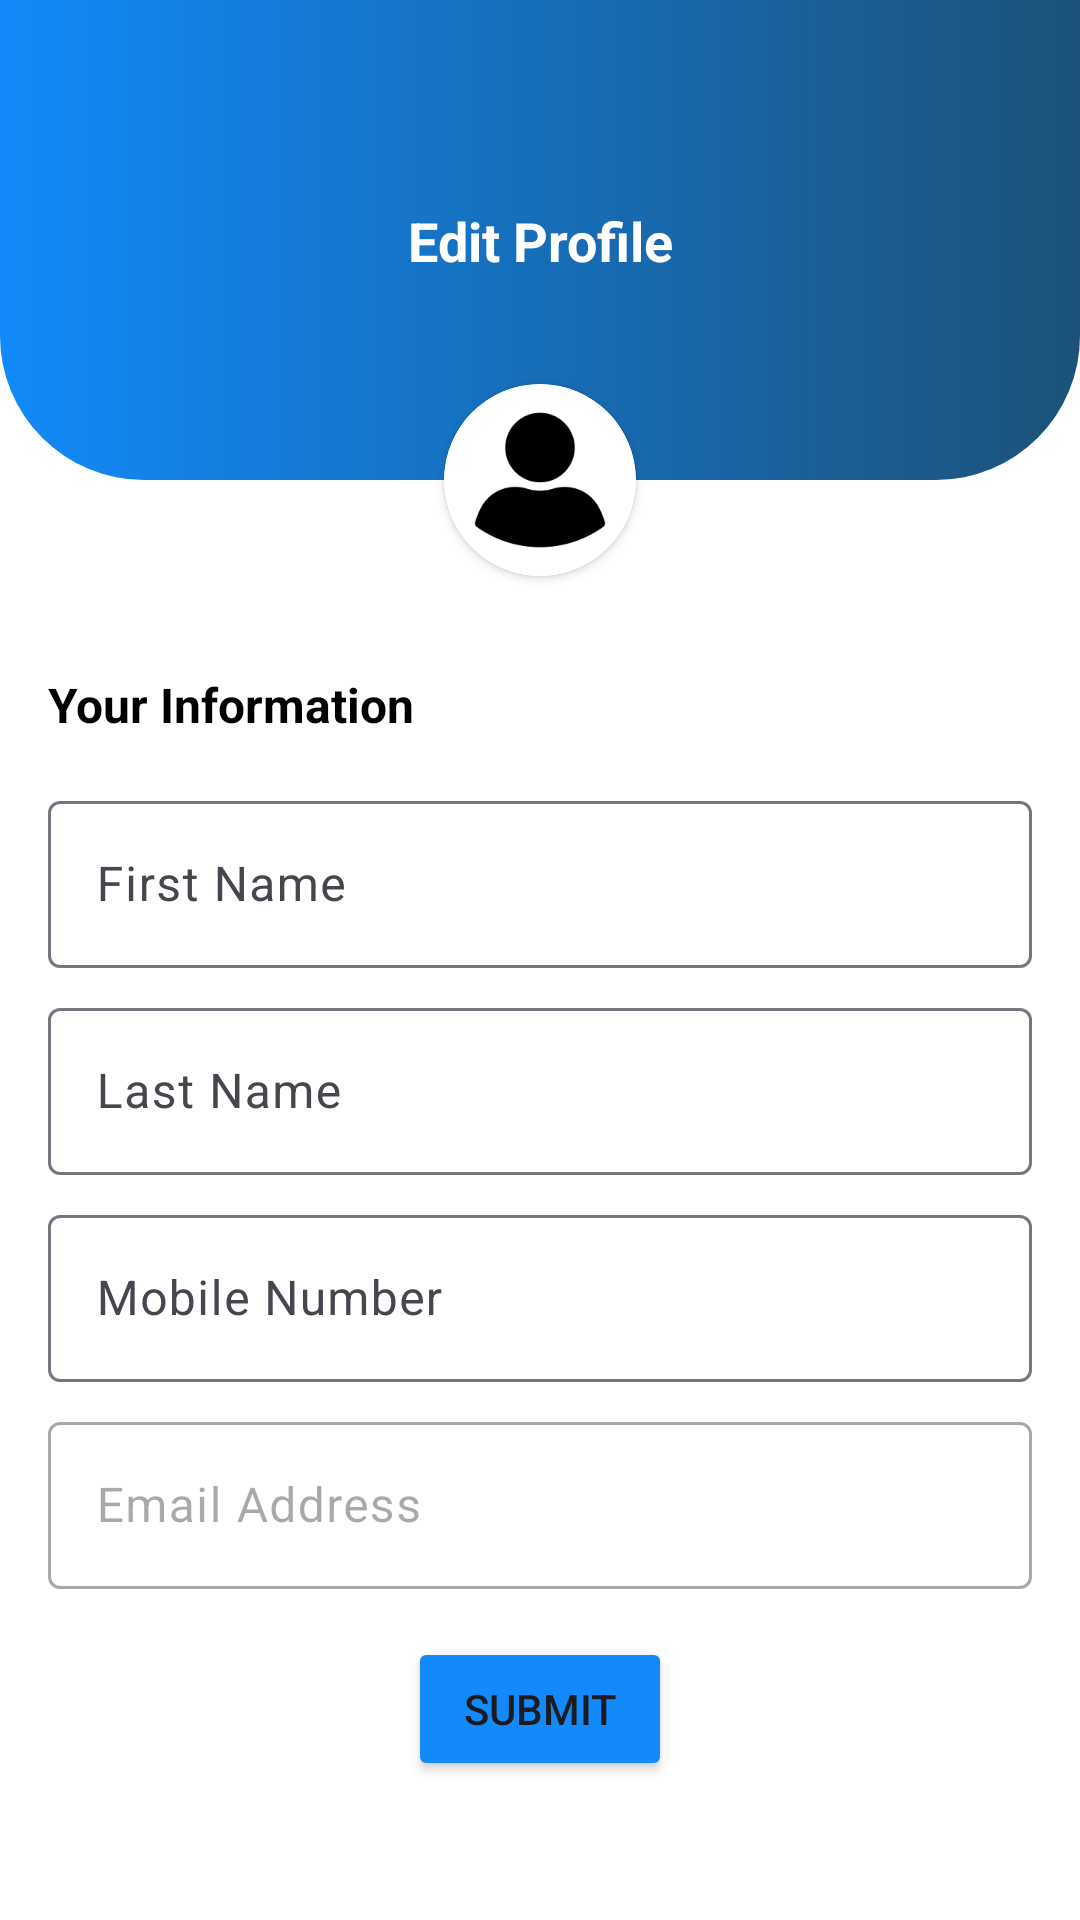

Where to tap for icons on this 1080px x 1920px app screen, as point (x, y):
user: point (540, 480)
